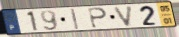1: (25, 10, 39, 32)
2: (137, 4, 160, 28)
9: (41, 10, 60, 31)
I: (70, 8, 80, 30)
P: (87, 7, 108, 29)
V: (113, 5, 136, 28)
